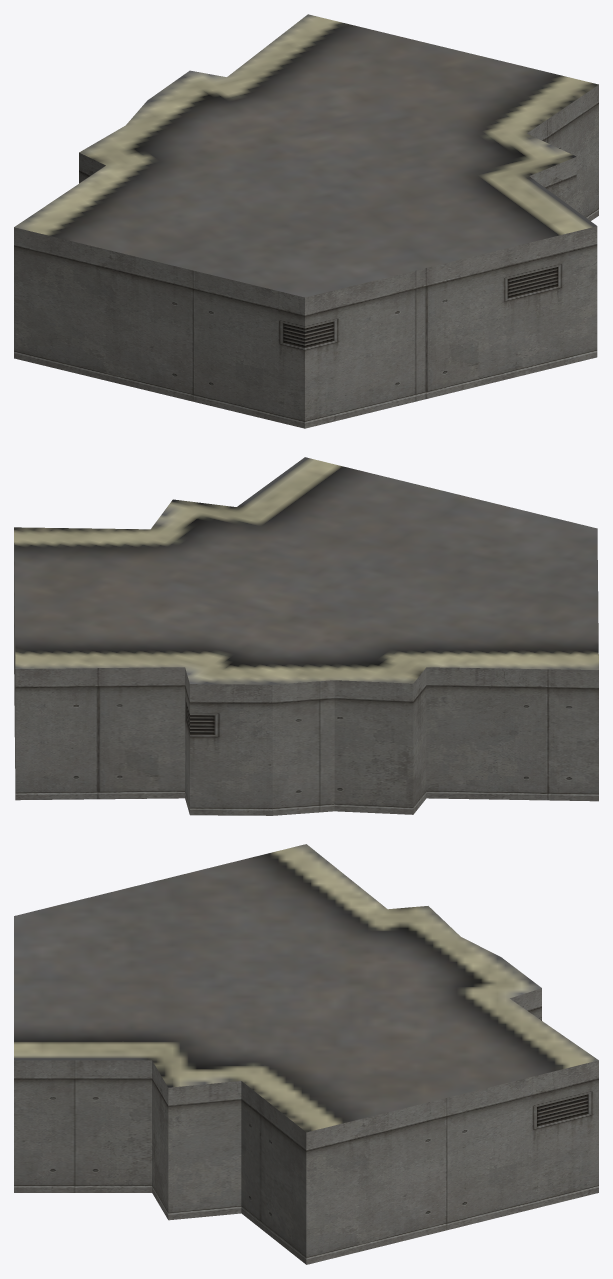
Rendered from building_medium_26.glb.
3 views of the same model, one above another, from view 1: azimuth 30°, elevation 25°; view 2: azimuth 150°, elevation 25°; view 3: azimuth 270°, elevation 25° (orthographic).
Visible parts, largest first — view 1: buildings/saxarba/building_medium/building_medium_26; view 2: buildings/saxarba/building_medium/building_medium_26; view 3: buildings/saxarba/building_medium/building_medium_26.
Part boxes in pixels (bbox=[...]): buildings/saxarba/building_medium/building_medium_26: bbox=[14, 14, 598, 428]; buildings/saxarba/building_medium/building_medium_26: bbox=[14, 457, 598, 815]; buildings/saxarba/building_medium/building_medium_26: bbox=[14, 844, 598, 1264].
Bounding box in the file's own units: 84 × 18 × 72.
